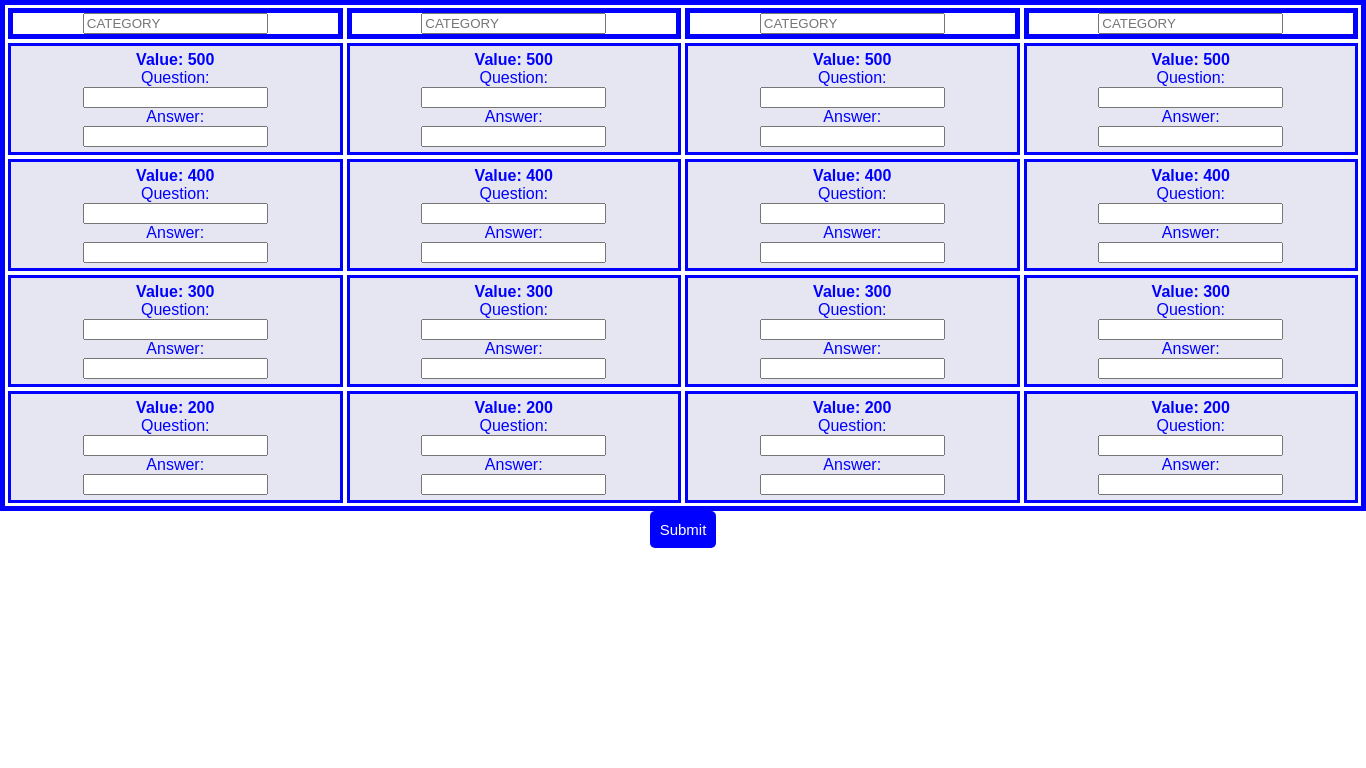
Test: Main test for inputting questions and answering › Should not provide points for incorrect answer
Type "Question 2" into the 6th field labelled "Question:" at (514, 214), box [421,203,606,224]
Type "Answer 2" into the 6th field labelled "Answer:" at (514, 253), box [421,242,606,263]
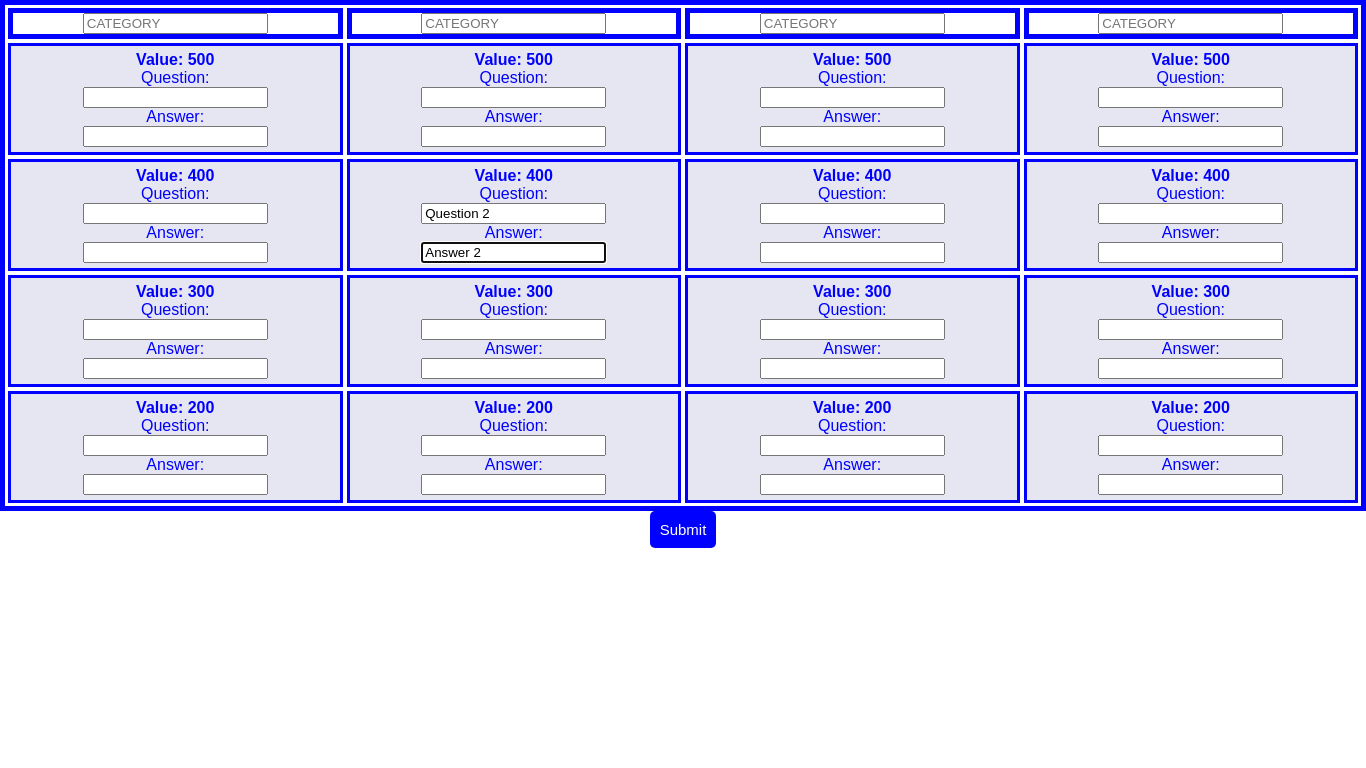
Click the button "Submit" at (684, 530), box [650,511,717,548]
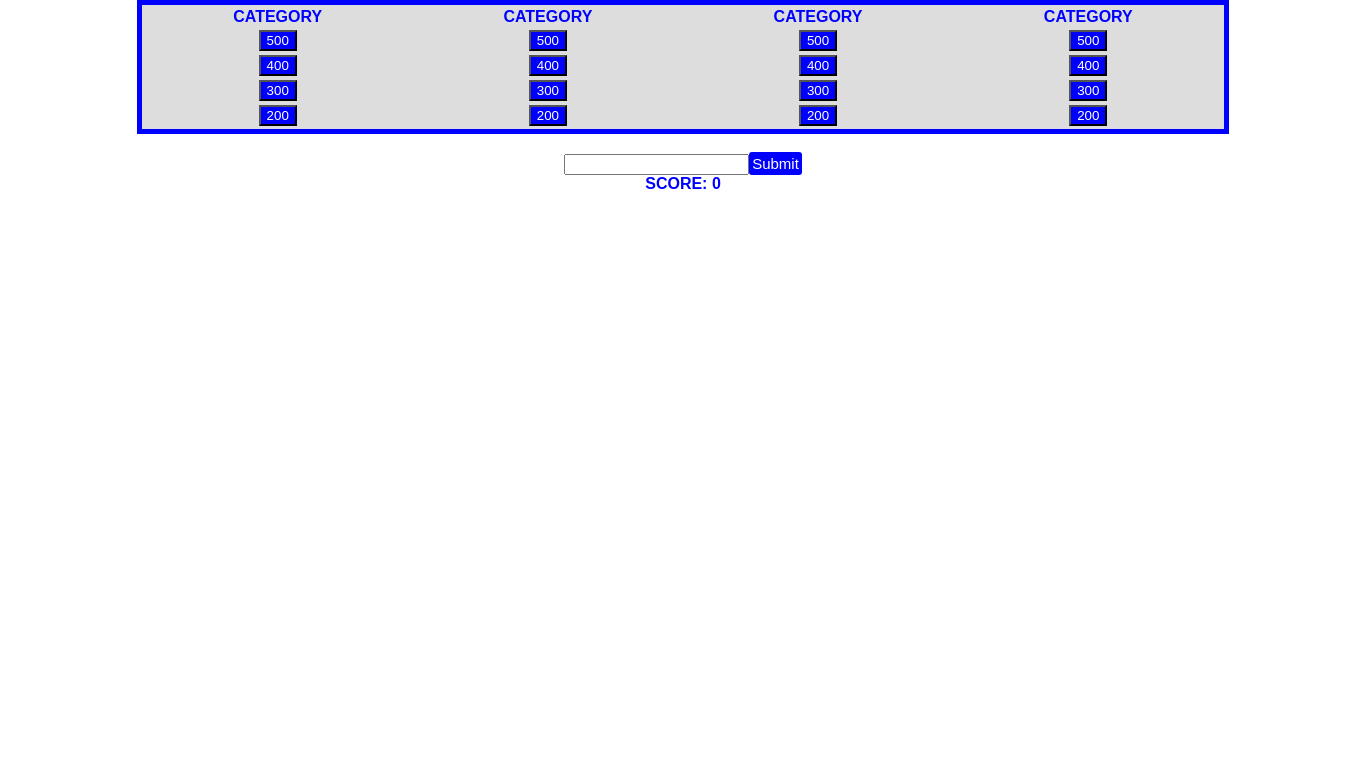
Click the 2nd button "400" at (548, 66), box [529,55,567,76]
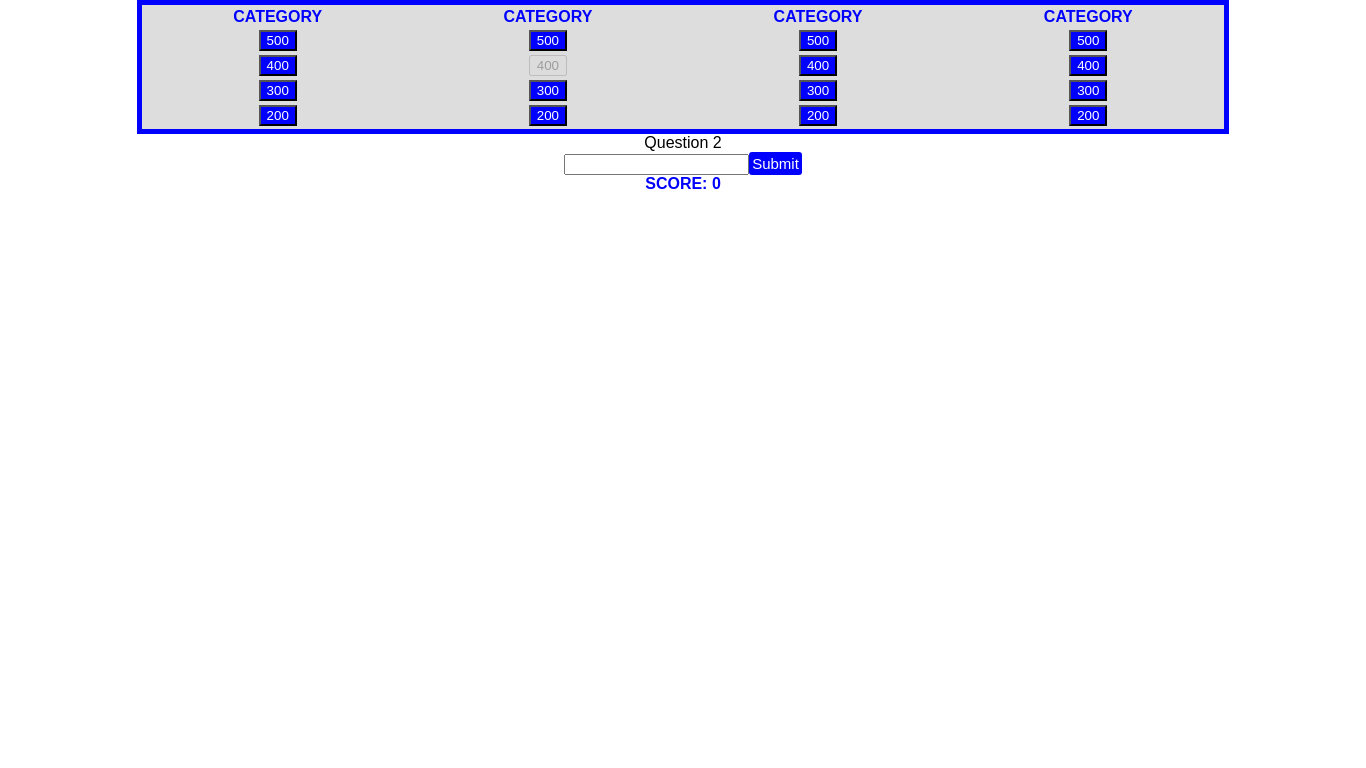
Expected: the text "Question 2" is shown, [564,134,802,175]
Type "Answer 1" into the field at (657, 165), box [564,154,749,175]
Click the submit button at (776, 164), box [749,152,802,175]
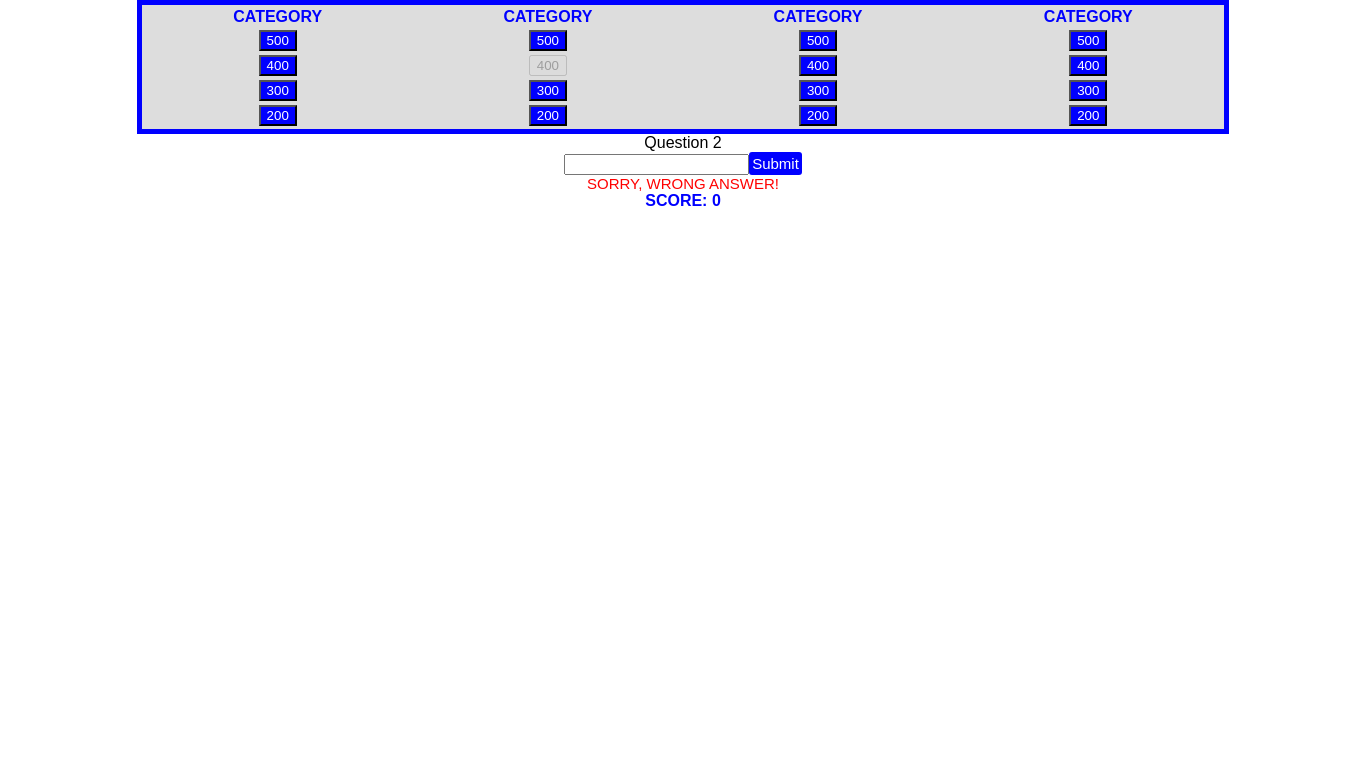
Expected: the 1st button "500" is shown, [259,30,297,51]
Expected: the text "SORRY, WRONG ANSWER!" is shown, [587,175,779,192]
Expected: the field is empty
Type "Answer 2" into the field at (657, 165), box [564,154,749,175]
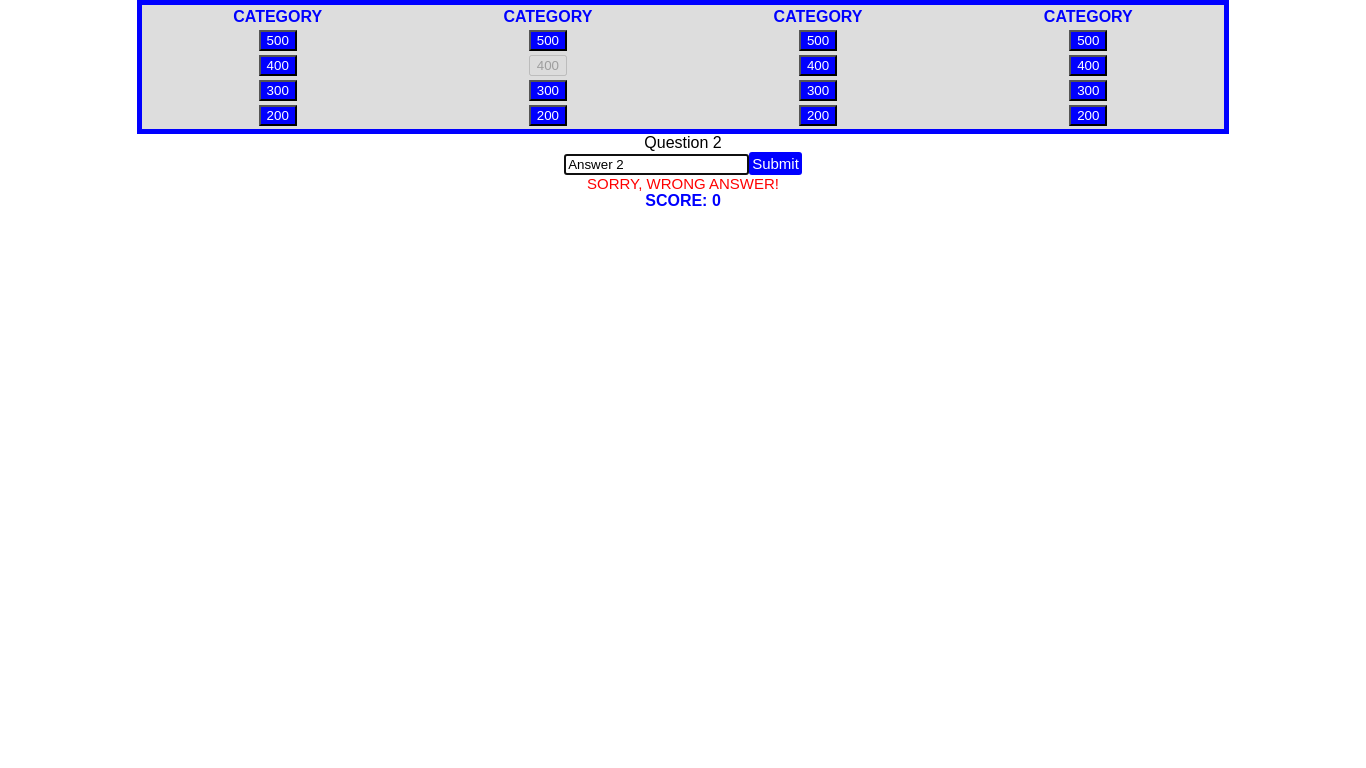
Click the submit button at (776, 164), box [749,152,802,175]
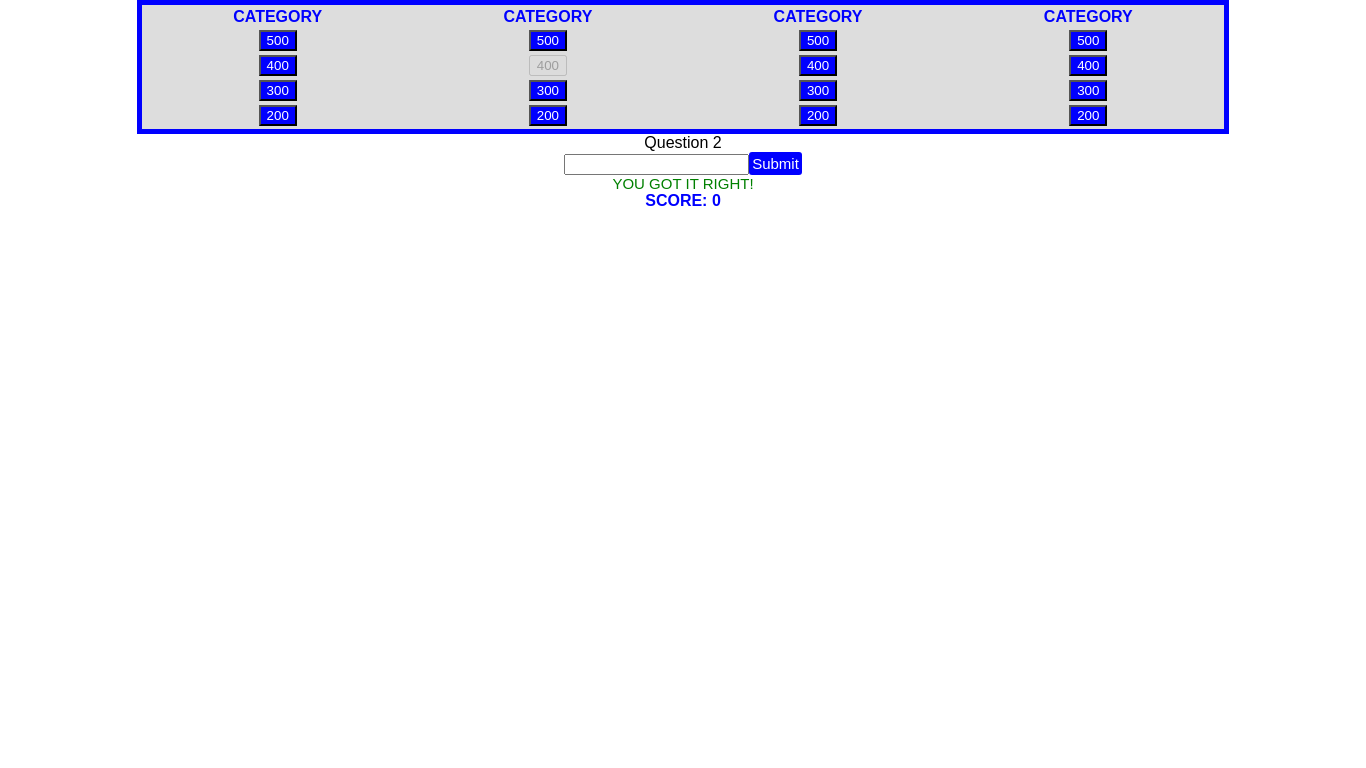
Expected: the 1st button "500" is shown, [259,30,297,51]
Expected: the text "YOU GOT IT RIGHT!" is shown, [612,175,754,192]
